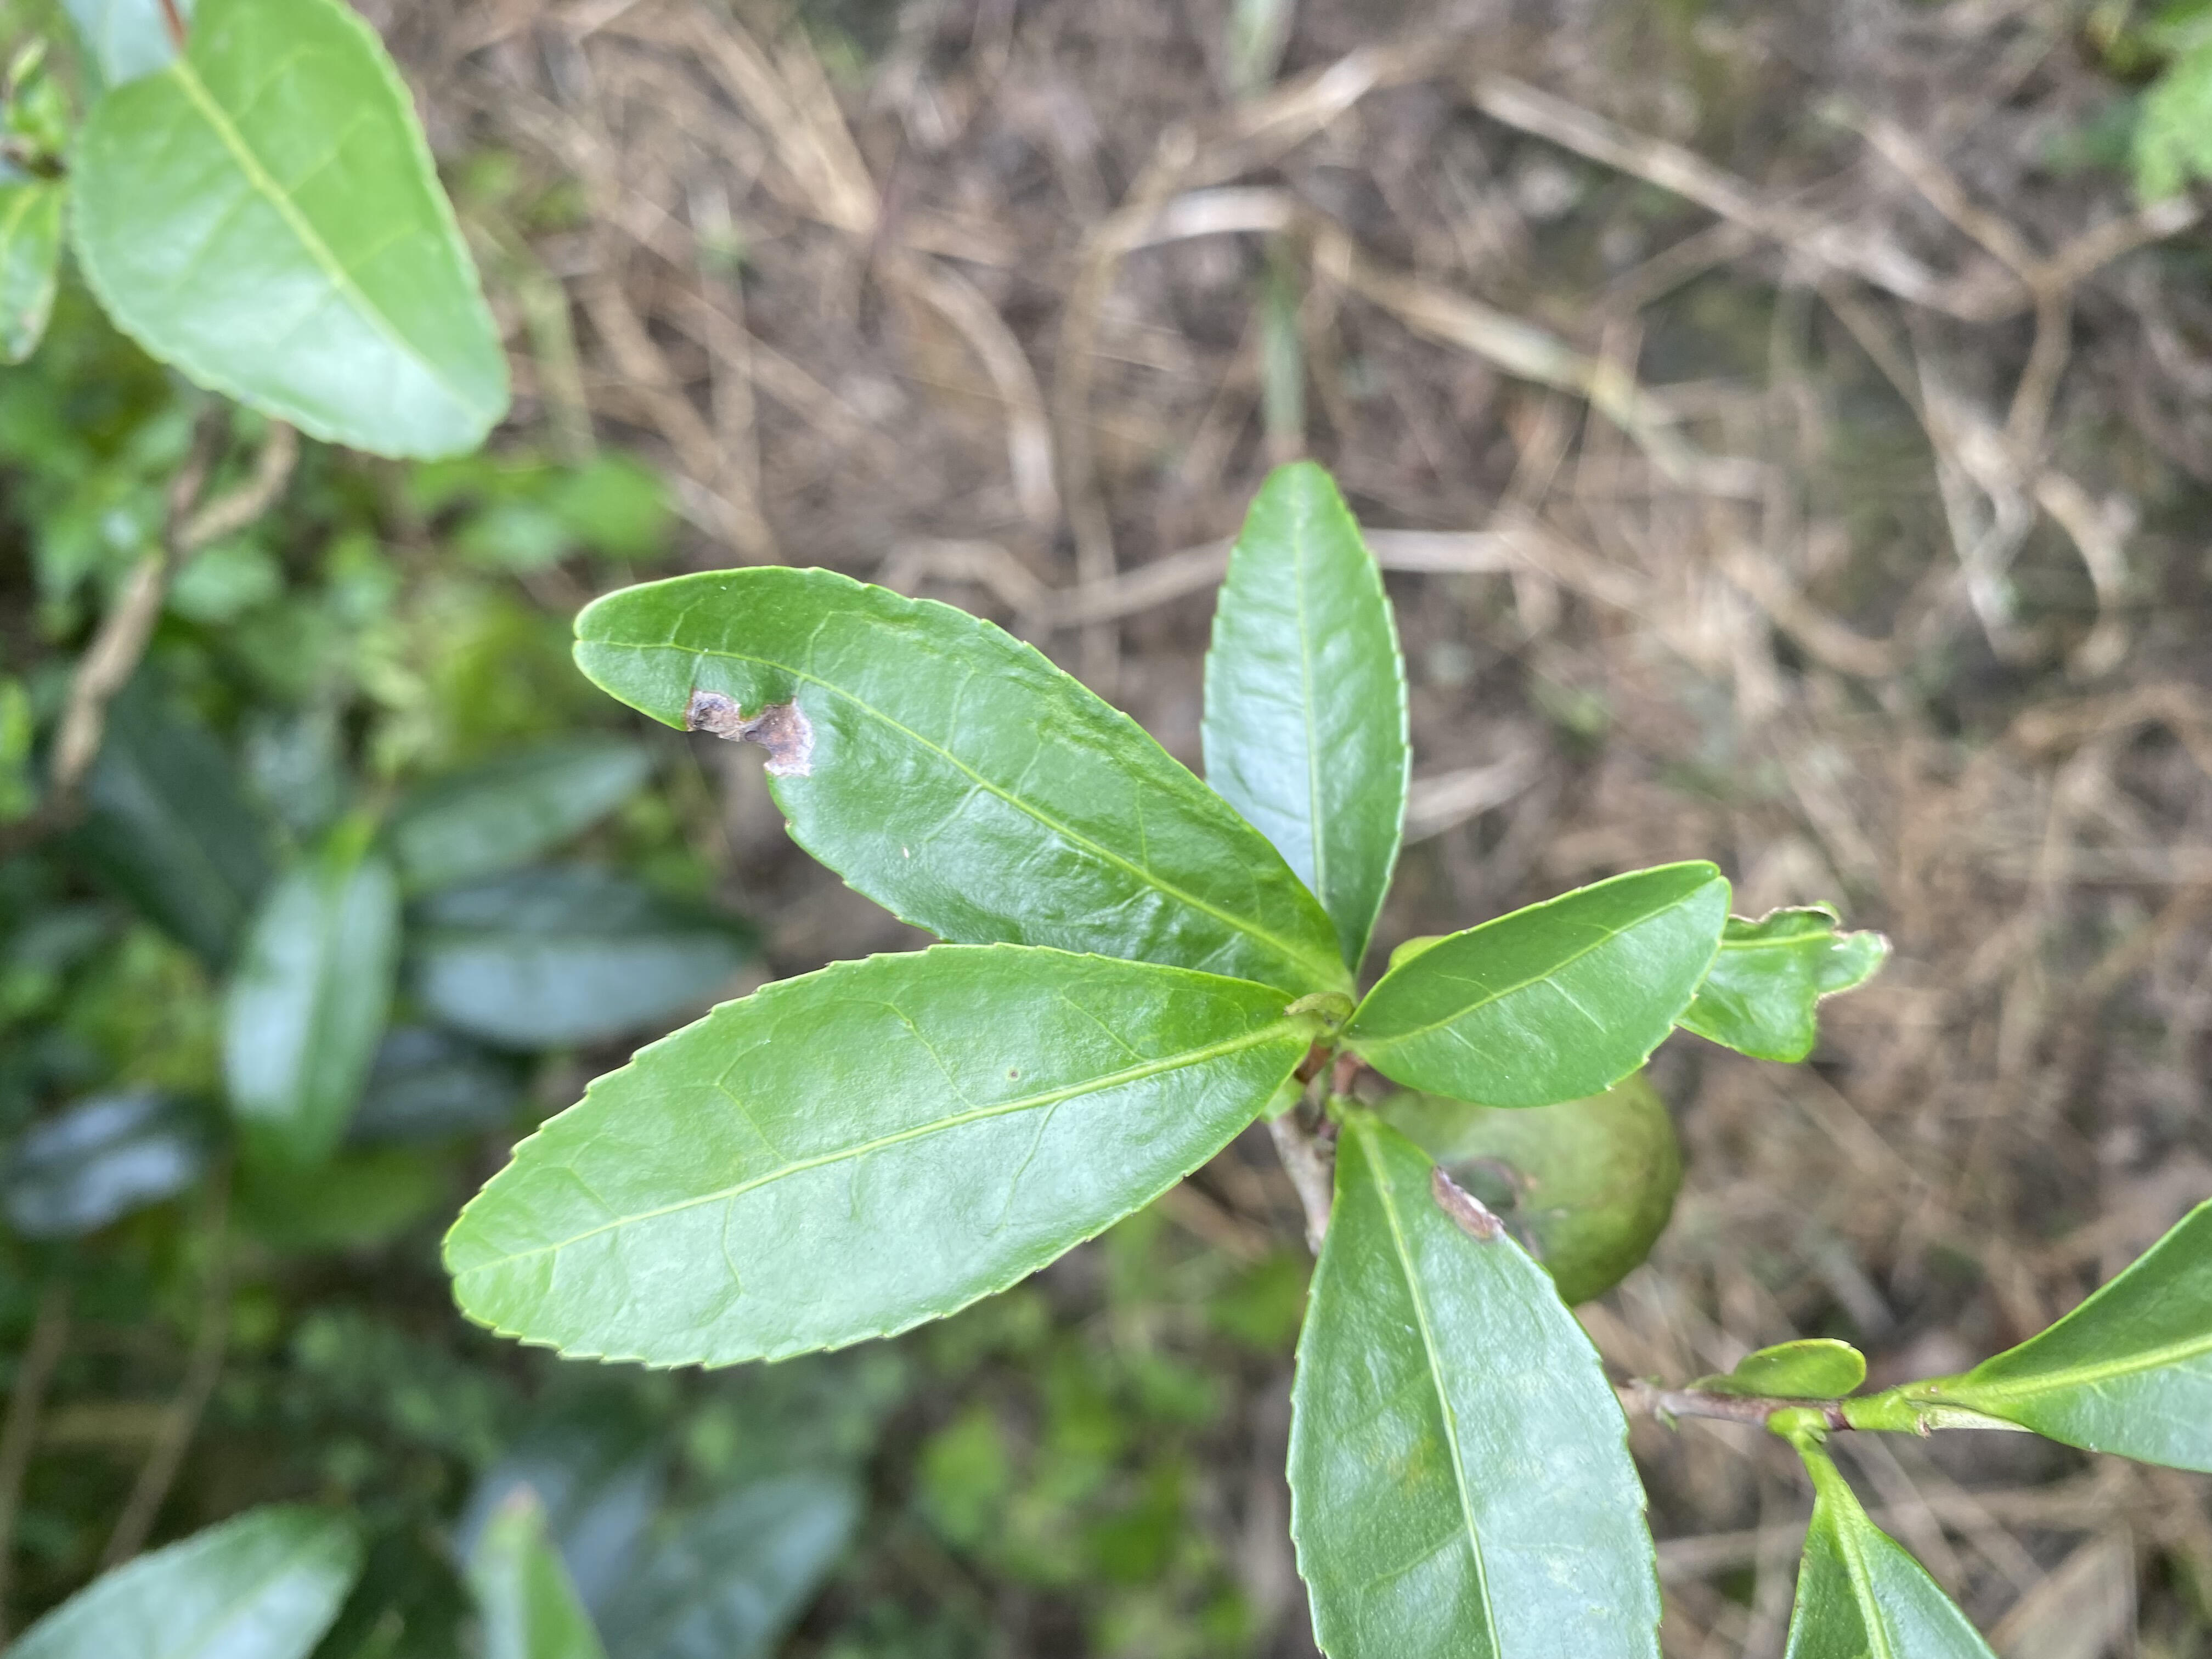chihuo_high: (1679, 901, 1897, 1065)
healthy: (437, 941, 1312, 1373), (1198, 460, 1414, 974), (1345, 861, 1731, 1107)
tanju_high: (570, 563, 1353, 1002)
tanju_low: (1285, 1117, 1665, 1656)
